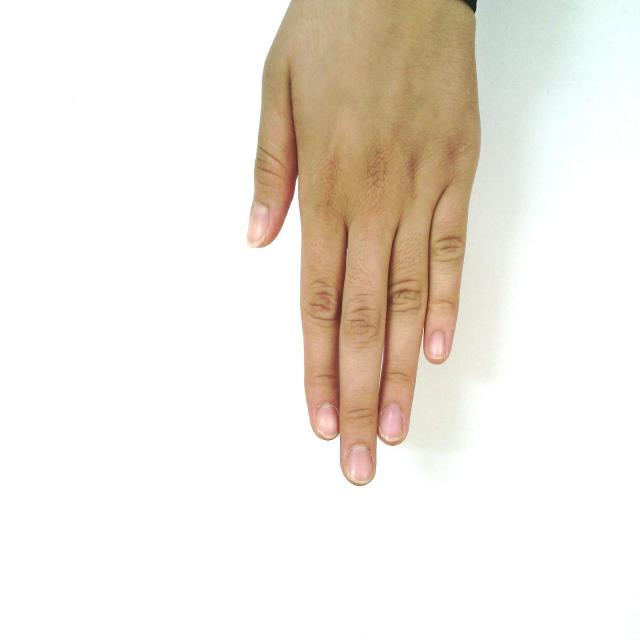Fingernail: (347, 445, 372, 483), (248, 203, 268, 245), (381, 404, 403, 441), (317, 406, 337, 438), (428, 331, 445, 357)
